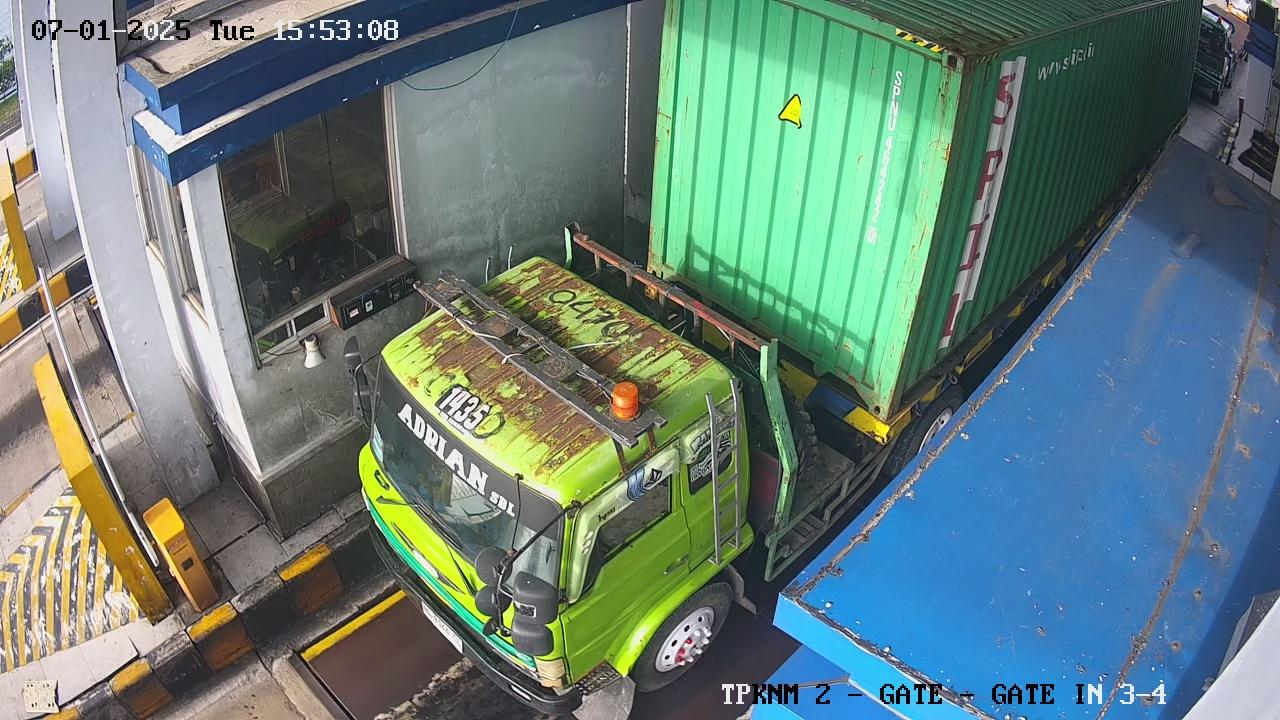Container_ID_Vertikal: (862, 70, 902, 243)
truck_id: (424, 369, 503, 438)
